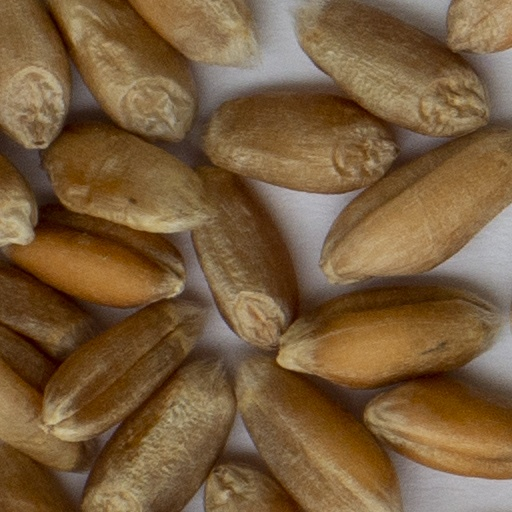Wheat-grain-poly: (315, 124, 511, 284), (289, 0, 489, 135), (49, 0, 202, 144), (199, 84, 398, 194), (37, 125, 220, 237), (0, 0, 75, 149), (126, 0, 262, 71), (443, 0, 511, 58), (0, 148, 40, 246)
